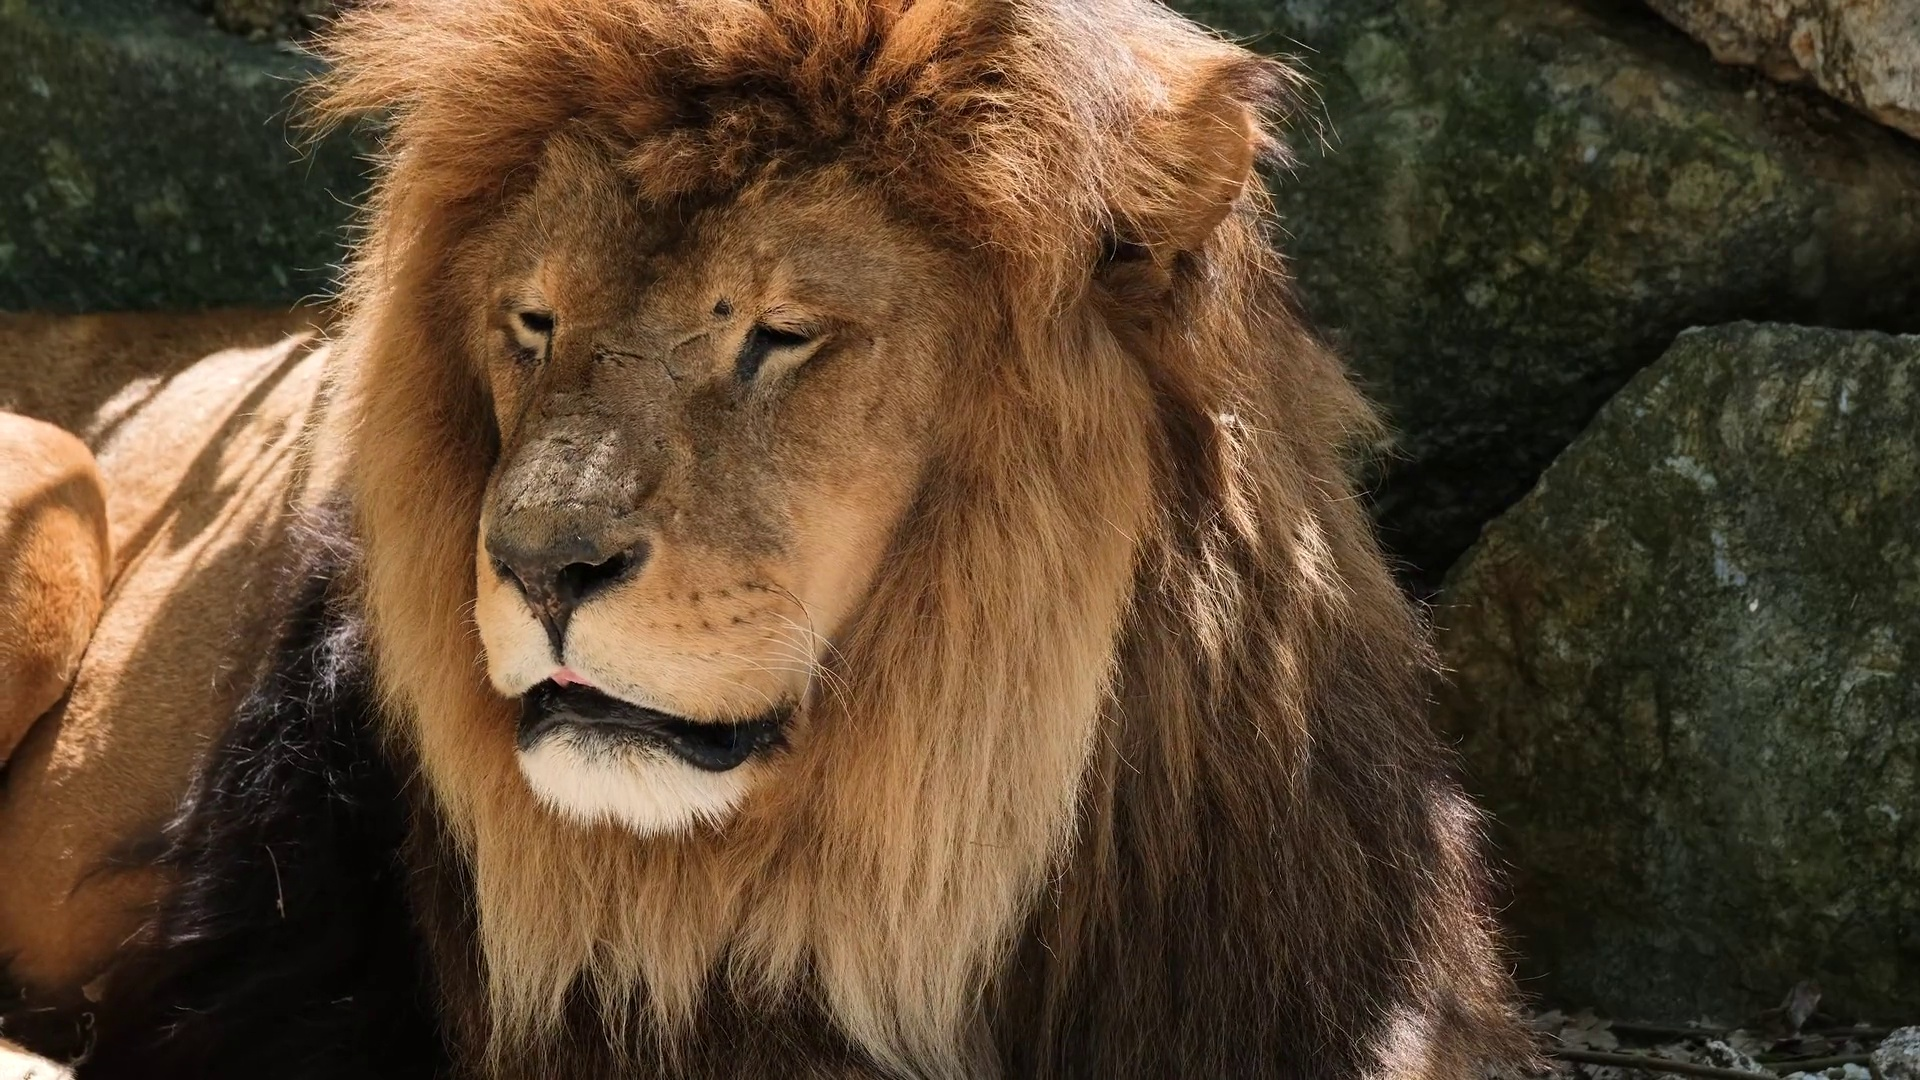Lion: (4, 1, 1545, 1080)
